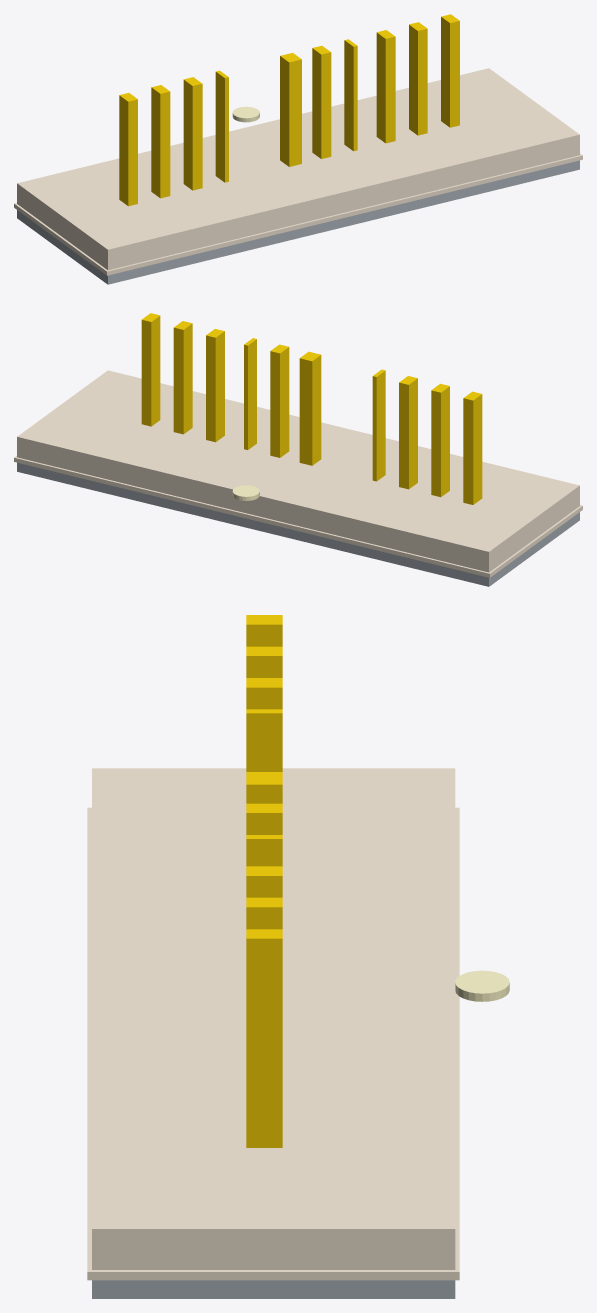
The model's file is Chữ inox gắn đá arylic.obj.
The picture shows the model from 3 angles, top to bottom: view 1: azimuth 30°, elevation 25°; view 2: azimuth 150°, elevation 25°; view 3: azimuth 270°, elevation 25°; orthographic projection. The views are drawn at different scales.
Parts seen in each view (by area): view 1: tam_nen_bang_hieu, chu_noi_inox_vang, khung_xuong_sat_hop, vien_nep_alu, den_tran_chieu_sang; view 2: tam_nen_bang_hieu, chu_noi_inox_vang, khung_xuong_sat_hop, vien_nep_alu, den_tran_chieu_sang; view 3: tam_nen_bang_hieu, chu_noi_inox_vang, vien_nep_alu, khung_xuong_sat_hop, den_tran_chieu_sang.
Boxes of the visible parts, left/top/right/bottom form: tam_nen_bang_hieu: left=17, top=68, right=579, bottom=270; chu_noi_inox_vang: left=119, top=14, right=459, bottom=206; khung_xuong_sat_hop: left=17, top=160, right=579, bottom=284; vien_nep_alu: left=14, top=153, right=582, bottom=275; den_tran_chieu_sang: left=232, top=106, right=259, bottom=122; tam_nen_bang_hieu: left=17, top=370, right=579, bottom=572; chu_noi_inox_vang: left=141, top=313, right=482, bottom=504; khung_xuong_sat_hop: left=17, top=462, right=579, bottom=586; vien_nep_alu: left=14, top=456, right=582, bottom=577; den_tran_chieu_sang: left=232, top=485, right=259, bottom=500; tam_nen_bang_hieu: left=92, top=768, right=455, bottom=1269; chu_noi_inox_vang: left=246, top=615, right=282, bottom=1147; vien_nep_alu: left=87, top=807, right=459, bottom=1280; khung_xuong_sat_hop: left=92, top=1280, right=455, bottom=1298; den_tran_chieu_sang: left=455, top=970, right=509, bottom=1001.
Bounding box in the file's own units: 1.21 × 0.341 × 0.465.
